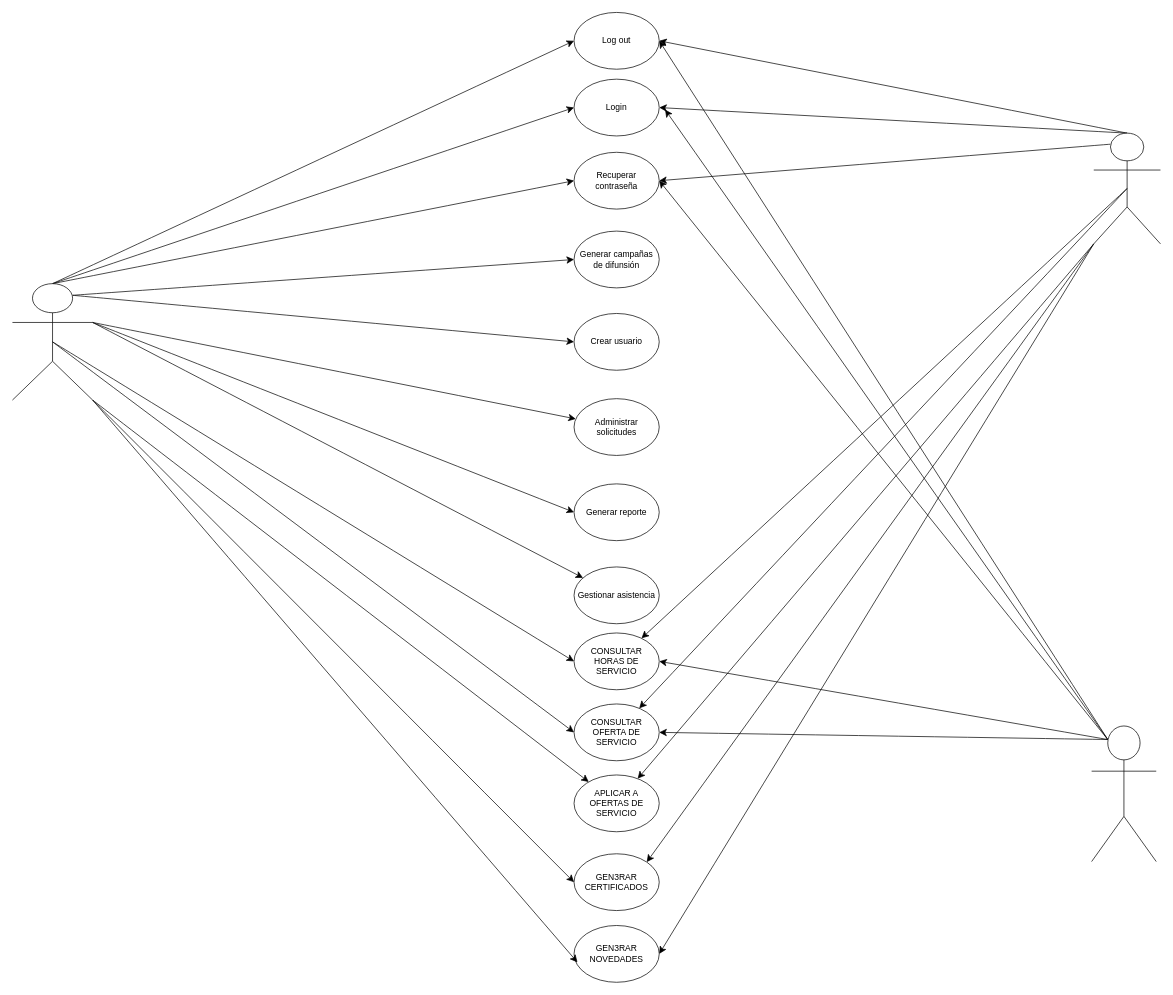
The diagram is 1173 pixels wide and 995 high, and some of its shapes have lost their labels. The box of each missing label's shape, as (x1, y1, x2, y2) in pixels:
ESTUDIANTE: (1093, 132, 1160, 244)
ORIENTADOR: (12, 283, 93, 400)
USUARIOS: (1091, 725, 1156, 862)
